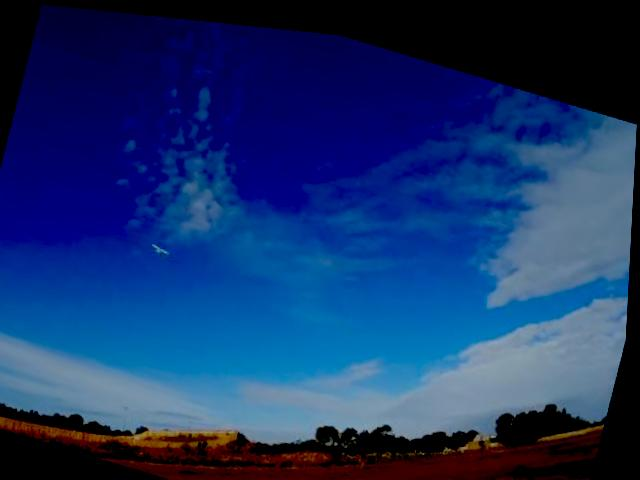uav: (149, 231, 178, 259)
